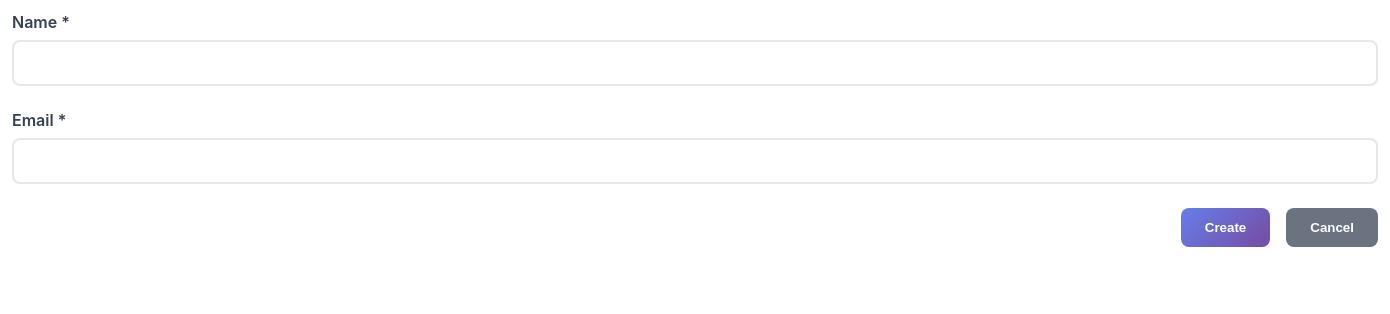
Test case: UserForm Component › shows validation errors for invalid input
Click the button "Create". click: (1226, 228)
box: [1181,208,1270,247]
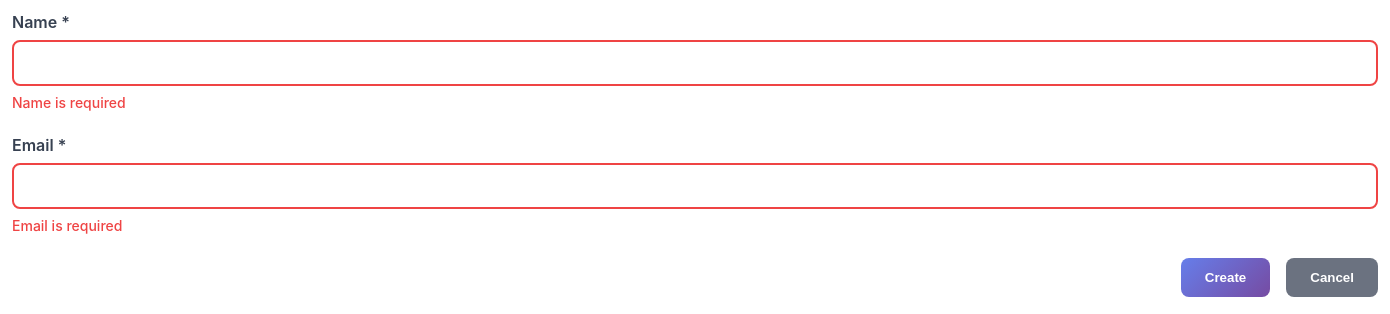
Check: the text "Name is required" is shown, box [12,94,126,111]
Check: the text "Email is required" is shown, box [12,217,122,234]
